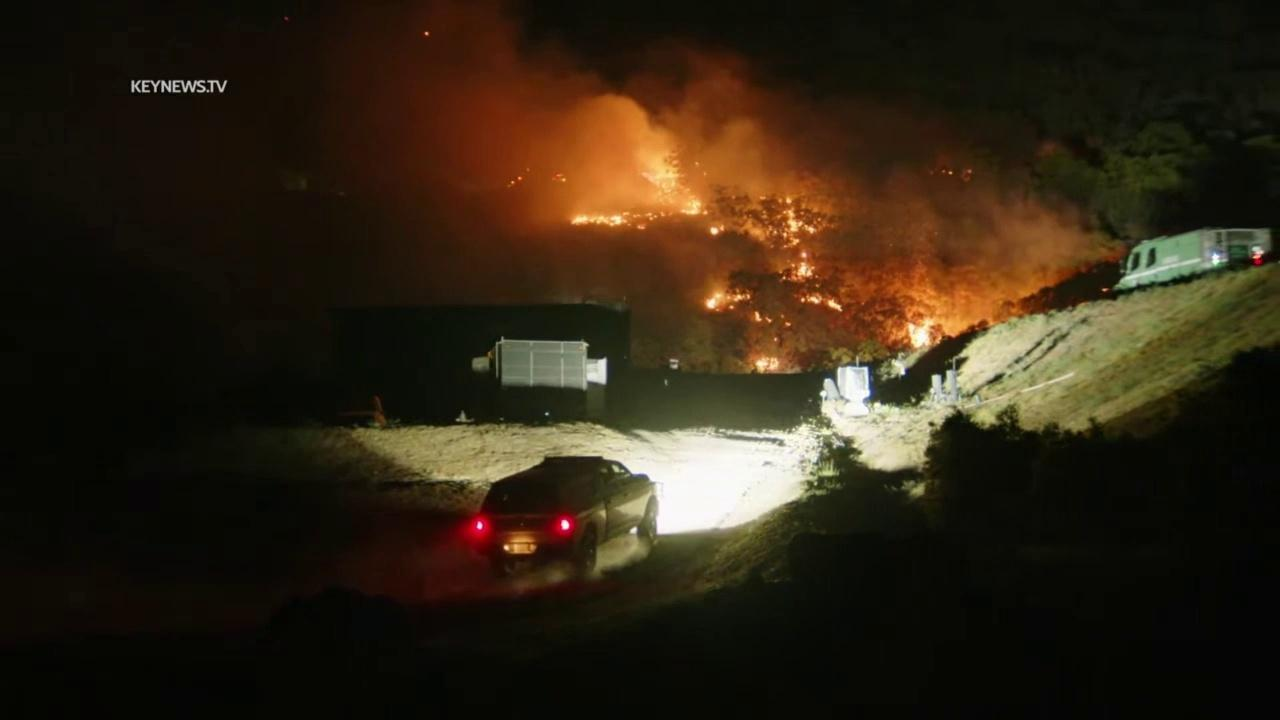fire: (633, 153, 711, 222), (773, 196, 818, 249), (702, 284, 751, 312), (905, 315, 941, 351), (779, 252, 821, 282), (570, 210, 632, 228), (797, 294, 845, 312), (753, 353, 779, 374), (709, 223, 726, 235), (551, 172, 567, 183), (753, 309, 763, 323), (635, 223, 648, 232), (422, 28, 430, 38), (766, 315, 773, 325), (784, 321, 793, 328), (967, 168, 973, 174), (948, 171, 954, 176), (517, 176, 523, 180)
smoke: (280, 1, 1132, 337)
